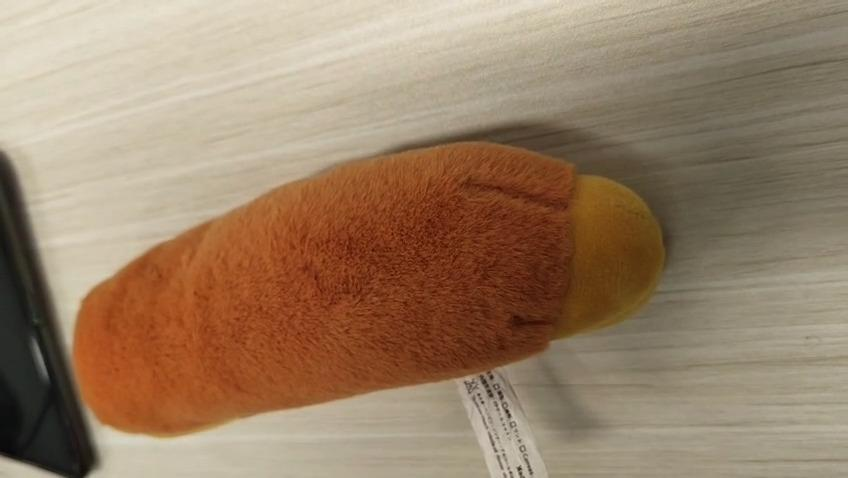hotdog: (73, 142, 664, 440)
